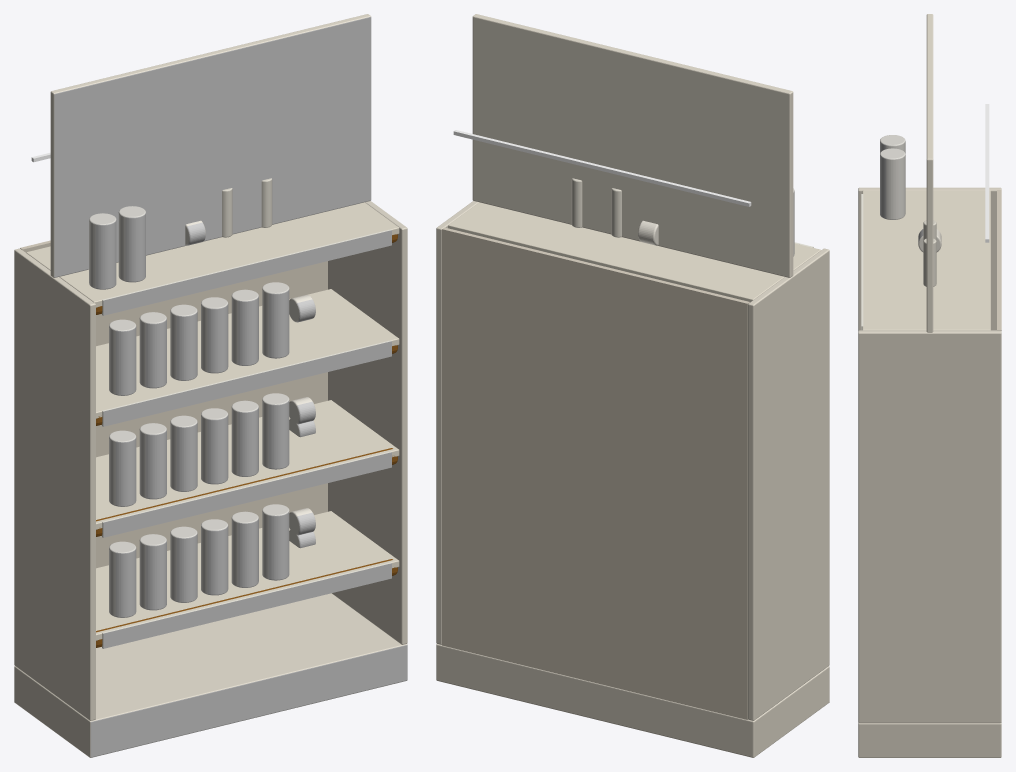
The model's file is rack.obj.
3 views of the same model, side by side, from view 1: azimuth 30°, elevation 25°; view 2: azimuth 150°, elevation 25°; view 3: azimuth 270°, elevation 25° (orthographic). The views are drawn at different scales.
Visible parts, largest first — view 1: header.panel, side.panel_1, base.plinth, side.panel_2, back.panel, shelf.deck.4, shelf.deck.3, shelf.deck.2, shelf.deck.1, shelf.talker.1, shelf.talker.2, shelf.talker.3 (+23 smaller); view 2: back.panel, header.panel, side.panel_1, base.plinth, shelf.deck.4, side.panel_2, led.header; view 3: side.panel_2, shelf.deck.4, base.plinth, header.panel, side.panel_1, product.bottle.shelf1_2, back.panel, led.header, shelf.talker.4, product.tube.shelf1_2, product.bottle.shelf1_1.
Boxes of the visible parts, x1,y1,x2,y2 form: header.panel: [50, 14, 371, 277]; side.panel_1: [14, 248, 95, 720]; base.plinth: [14, 593, 407, 757]; side.panel_2: [328, 201, 407, 644]; back.panel: [20, 240, 327, 568]; shelf.deck.4: [26, 202, 399, 307]; shelf.deck.3: [96, 289, 399, 418]; shelf.deck.2: [96, 400, 399, 529]; shelf.deck.1: [96, 511, 399, 640]; shelf.talker.1: [102, 562, 391, 648]; shelf.talker.2: [102, 451, 391, 537]; shelf.talker.3: [102, 340, 391, 426]; back.panel: [442, 227, 749, 719]; header.panel: [472, 14, 793, 277]; side.panel_1: [748, 248, 829, 720]; base.plinth: [436, 644, 829, 757]; shelf.deck.4: [448, 202, 821, 302]; side.panel_2: [436, 201, 478, 644]; led.header: [453, 130, 751, 206]; side.panel_2: [858, 330, 1001, 723]; shelf.deck.4: [862, 190, 990, 330]; base.plinth: [858, 723, 1001, 757]; header.panel: [926, 14, 933, 332]; side.panel_1: [858, 187, 1001, 330]; product.bottle.shelf1_2: [880, 148, 905, 219]; back.panel: [997, 190, 1001, 330]; led.header: [985, 104, 989, 242]; shelf.talker.4: [861, 194, 863, 330]; product.tube.shelf1_2: [923, 238, 936, 286]; product.bottle.shelf1_1: [880, 135, 905, 153].
Bounding box in the file's own units: 0.914 × 1.75 × 0.38.
